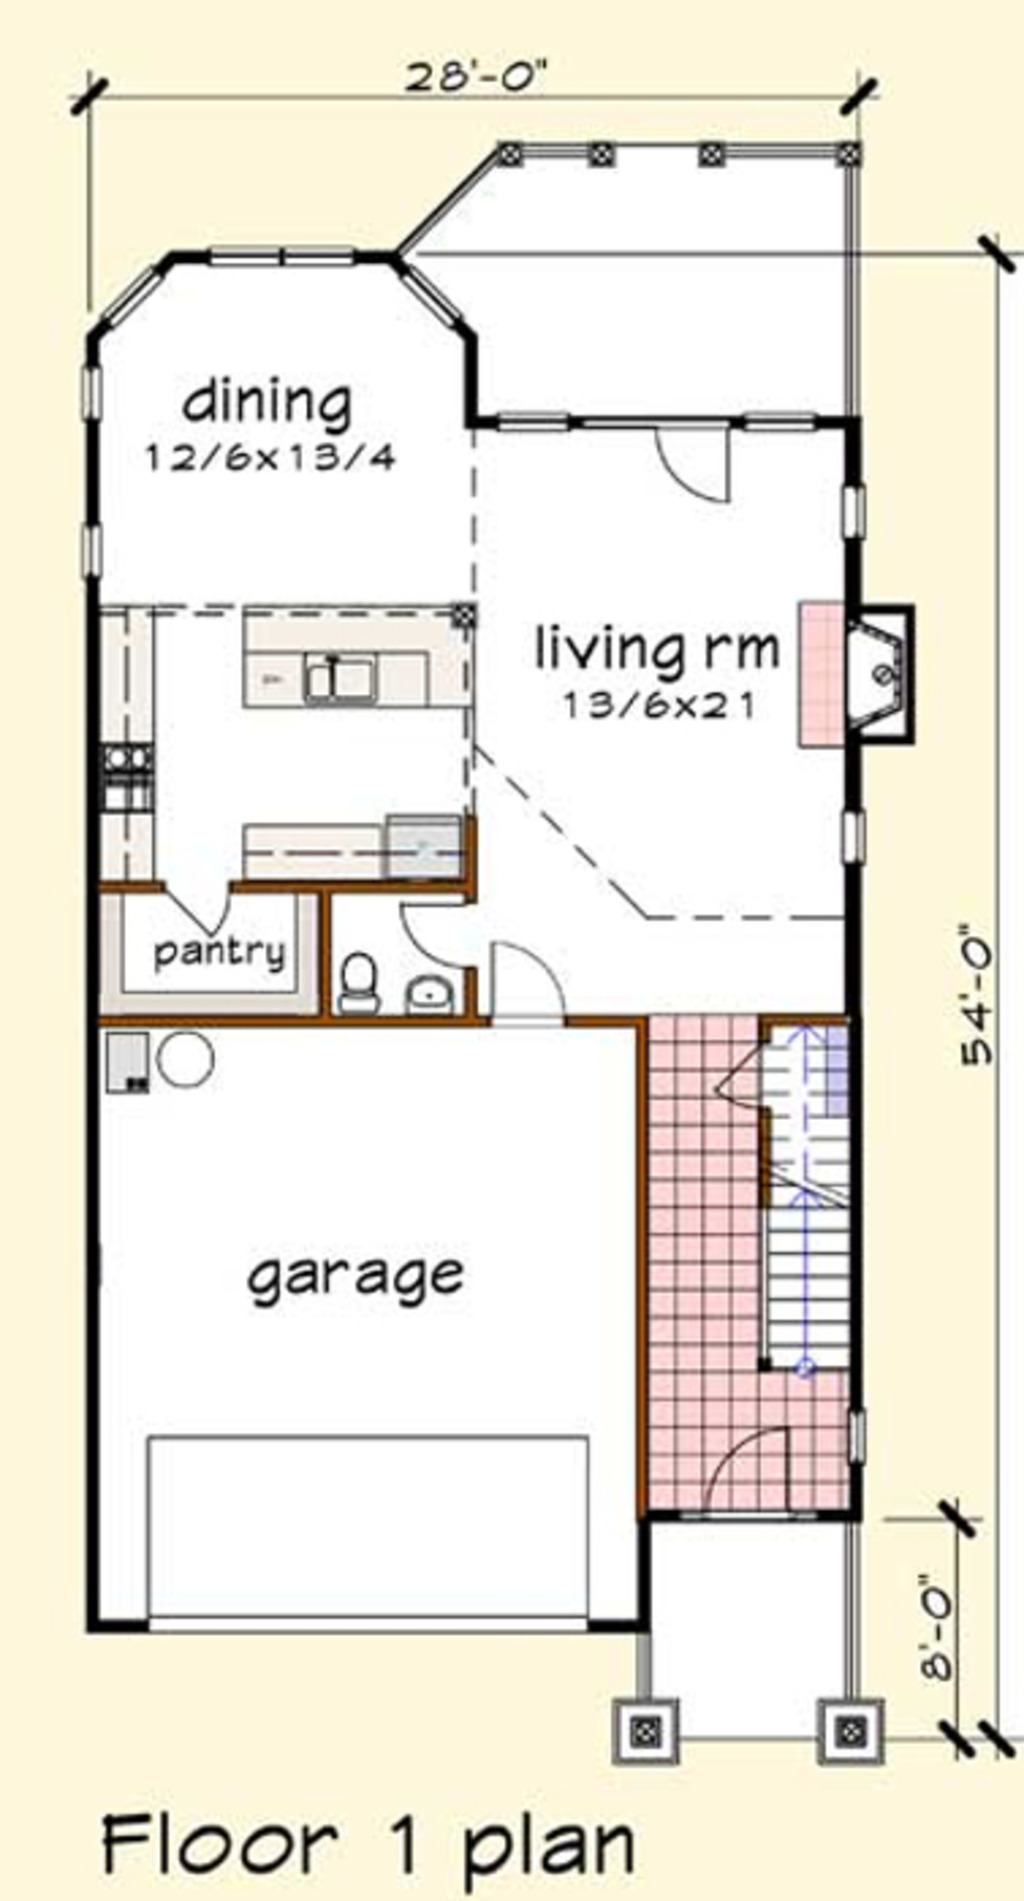door: (646, 413, 752, 519), (707, 1428, 813, 1533), (493, 937, 586, 1031), (405, 887, 484, 966), (169, 875, 237, 943), (702, 1046, 758, 1102)
large_sink: (328, 952, 390, 1014)
small_sink: (390, 978, 451, 1040)
stairs: (680, 1111, 943, 1373)
twin_sink: (288, 637, 419, 769)
window: (211, 190, 364, 343), (393, 258, 491, 355), (72, 361, 158, 448), (84, 252, 169, 337), (69, 522, 122, 575)
